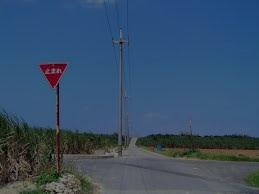Regulatory_sign_triangle: (36, 60, 70, 92)
